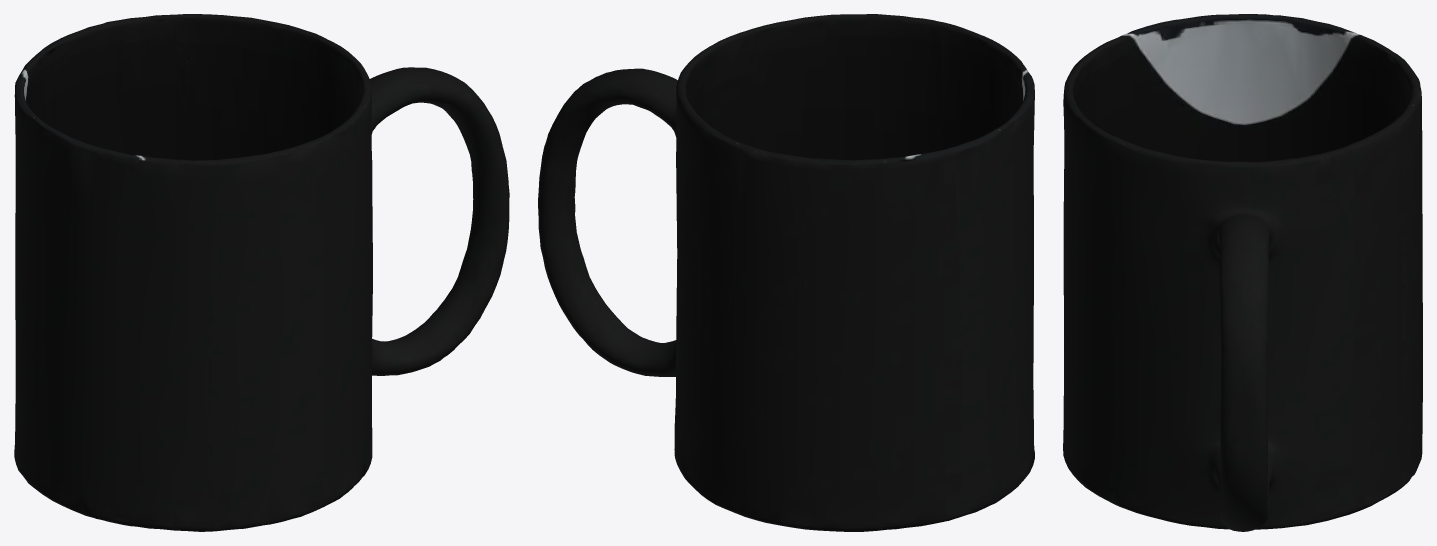
Rendered from DEMO-P022.glb.
The picture shows the model from 3 angles, left to right: view 1: azimuth 30°, elevation 25°; view 2: azimuth 150°, elevation 25°; view 3: azimuth 270°, elevation 25°; orthographic projection.
Size of the model in its own units: 1 by 0.7695 by 0.6804.
Materials: 1 (1 with a texture image).
